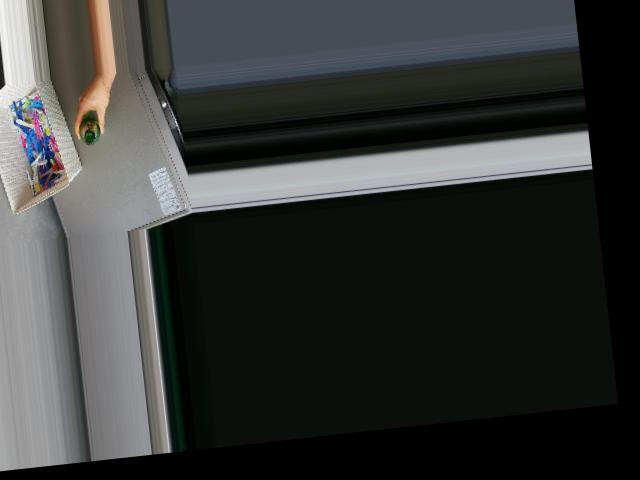beer: (78, 114, 102, 146)
